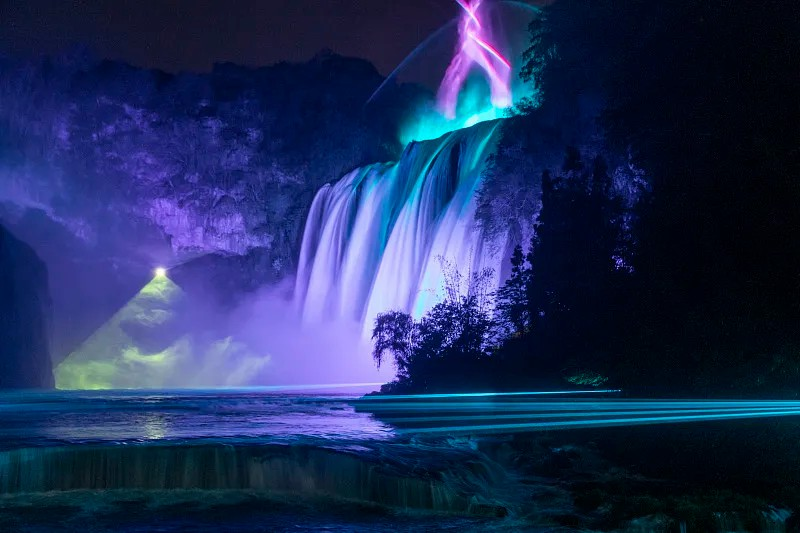Huangguoshu: (297, 120, 535, 356)
